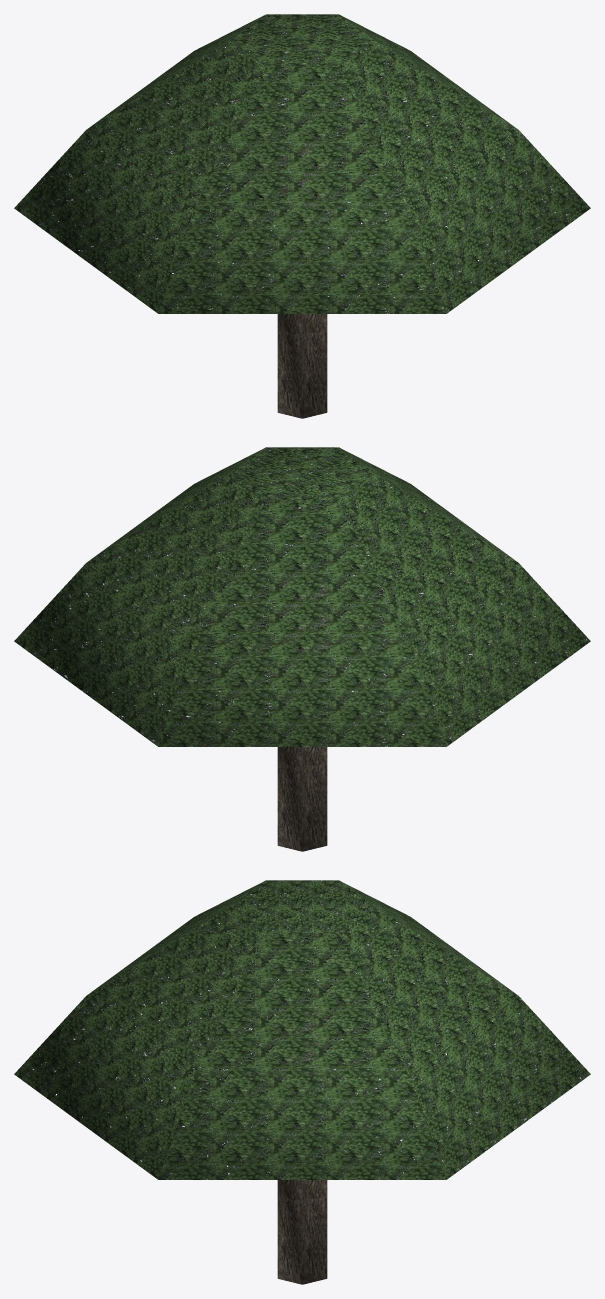
File: Tree1.fbx
3 renders of one model, top to bottom at view 1: azimuth 30°, elevation 25°; view 2: azimuth 150°, elevation 25°; view 3: azimuth 270°, elevation 25°, orthographic.
Visible parts, largest first — view 1: Model; view 2: Model; view 3: Model.
Part boxes in pixels (x1,y1,x2,y2): Model: (14,14,590,418); Model: (14,447,590,851); Model: (14,880,590,1284).
Bounding box in the file's own units: 866 × 700 × 1000.
2 materials, 2 textured.
